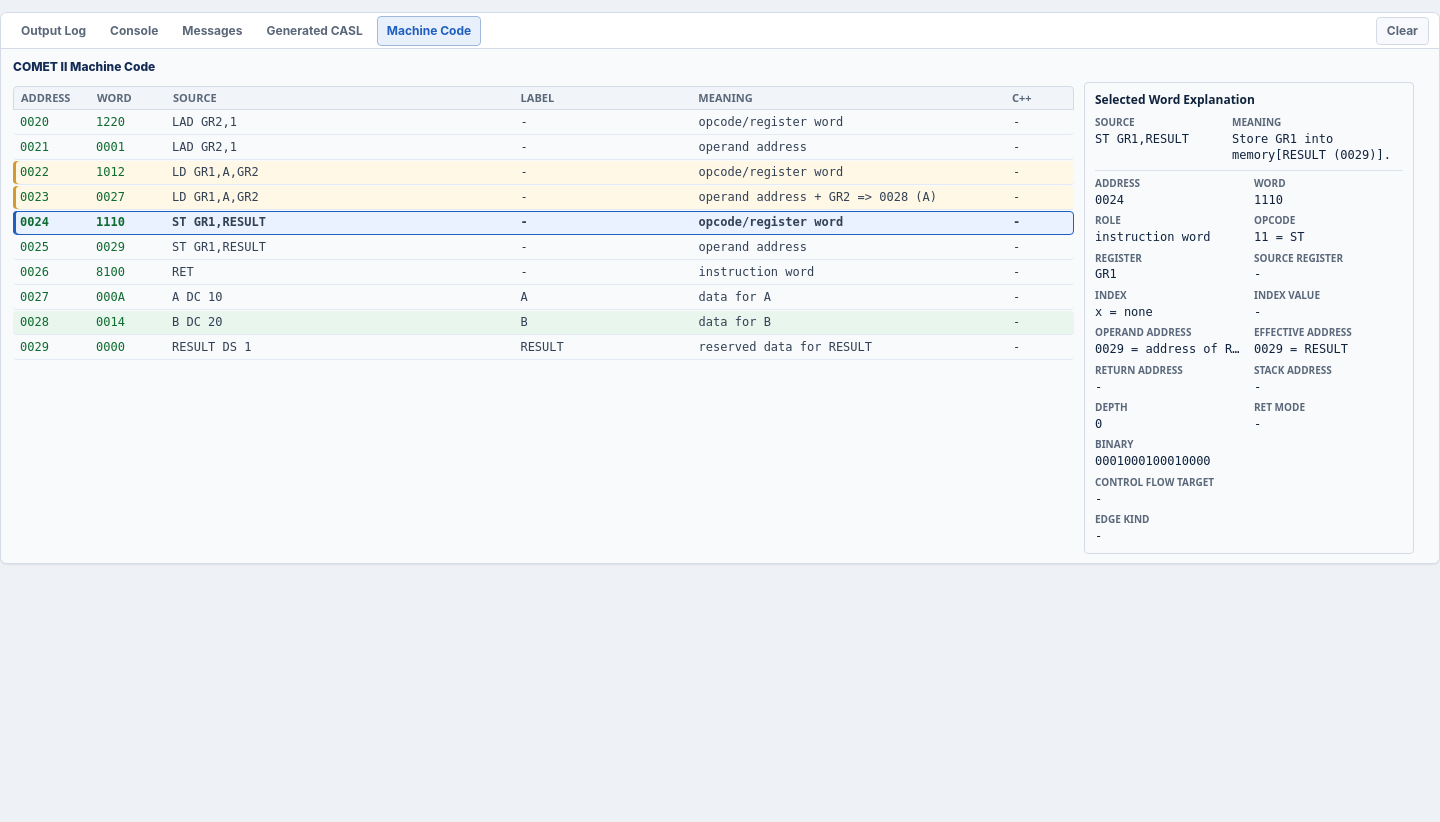
Test: machine code rows › machine_code_explanation_shows_index_register_and_effective_address
The image size is (1440, 822).
Click the button with test id "machine-code-row-0022" at (215, 172), box top-left (13, 160), bottom-right (1074, 184)
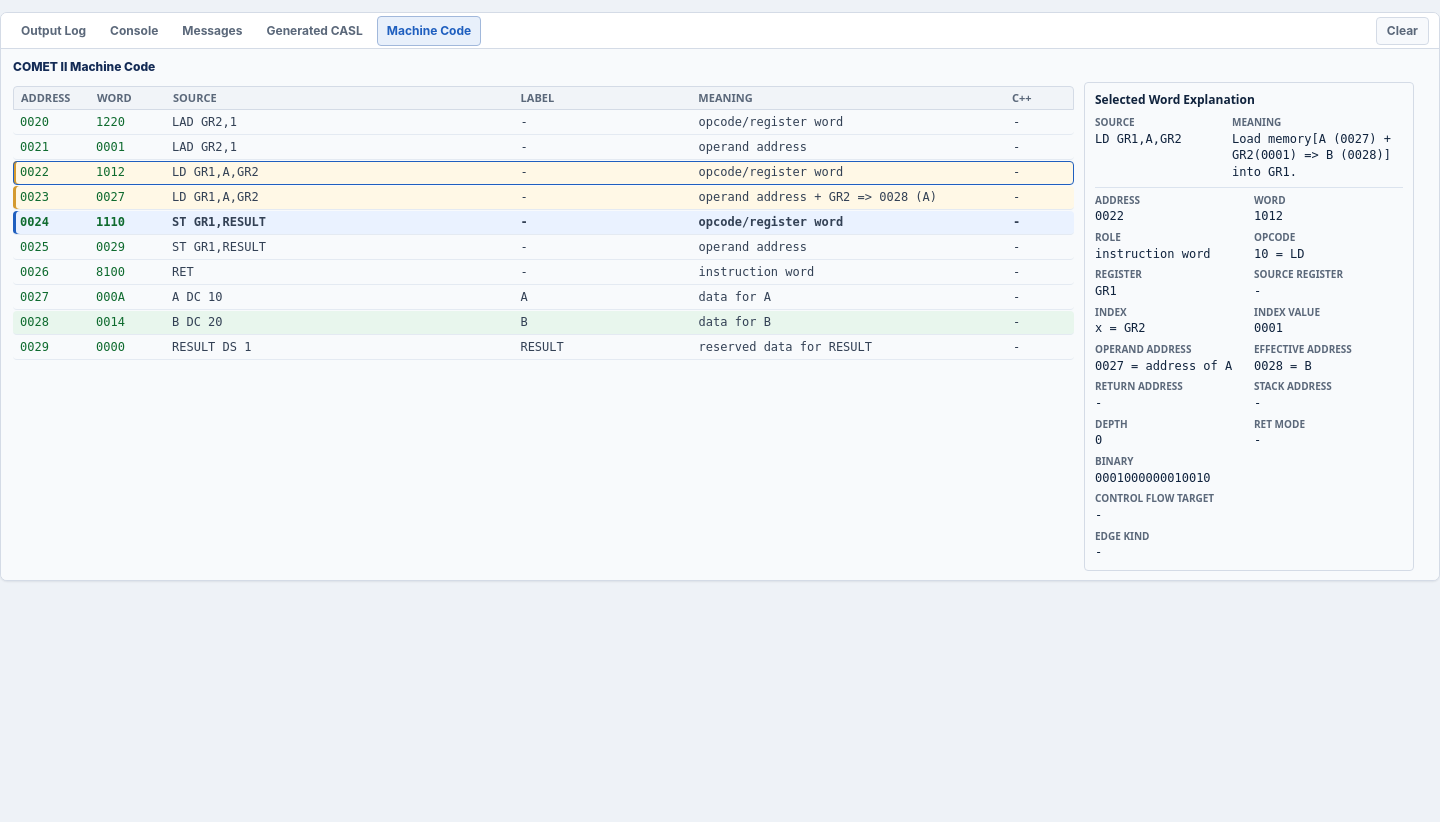
Expected: the element with test id "machine-code-explanation" shows "B", top-left (1232, 132), bottom-right (1391, 179)
Result: the element with test id "machine-code-explanation" shows "x = GR2" at top-left (1095, 321), bottom-right (1146, 335)
Result: the element with test id "machine-code-explanation" shows "0028" at top-left (1232, 132), bottom-right (1391, 179)
